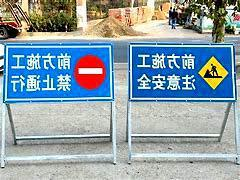sign: (4, 43, 114, 103), (127, 42, 237, 101)
